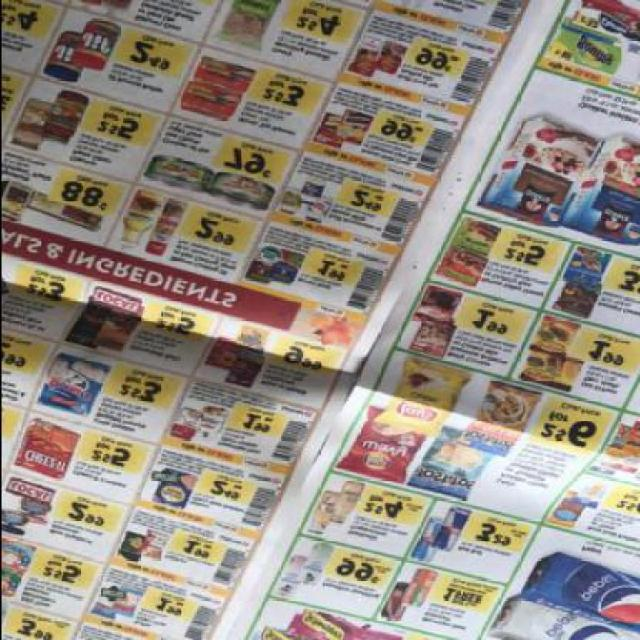paper: (0, 1, 638, 640), (0, 1, 560, 638), (233, 1, 638, 640)
